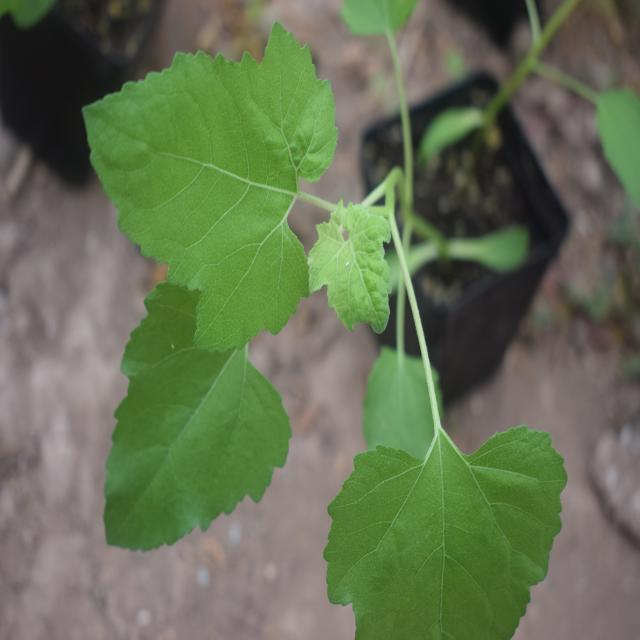cocklebur: (71, 19, 548, 626)
